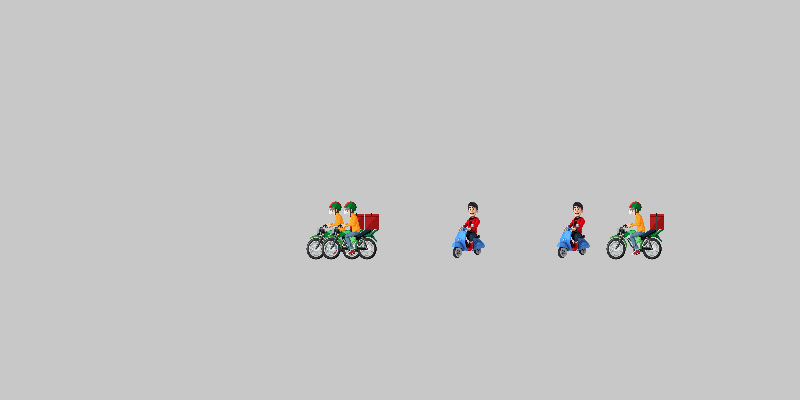helmet: (305, 200, 365, 260), (320, 200, 380, 260), (605, 200, 665, 260)
no_helmet: (440, 200, 500, 260), (545, 200, 605, 260)
